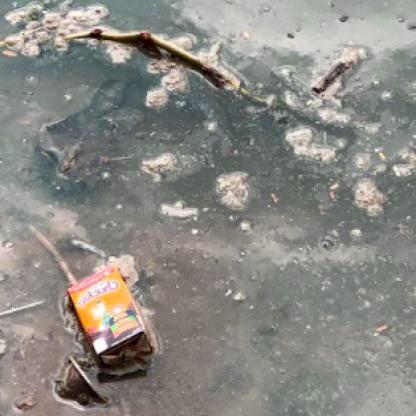Trash: (65, 261, 157, 368)
